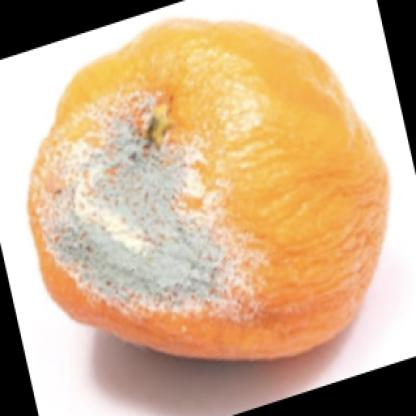rotten_orange: (16, 6, 389, 384)
